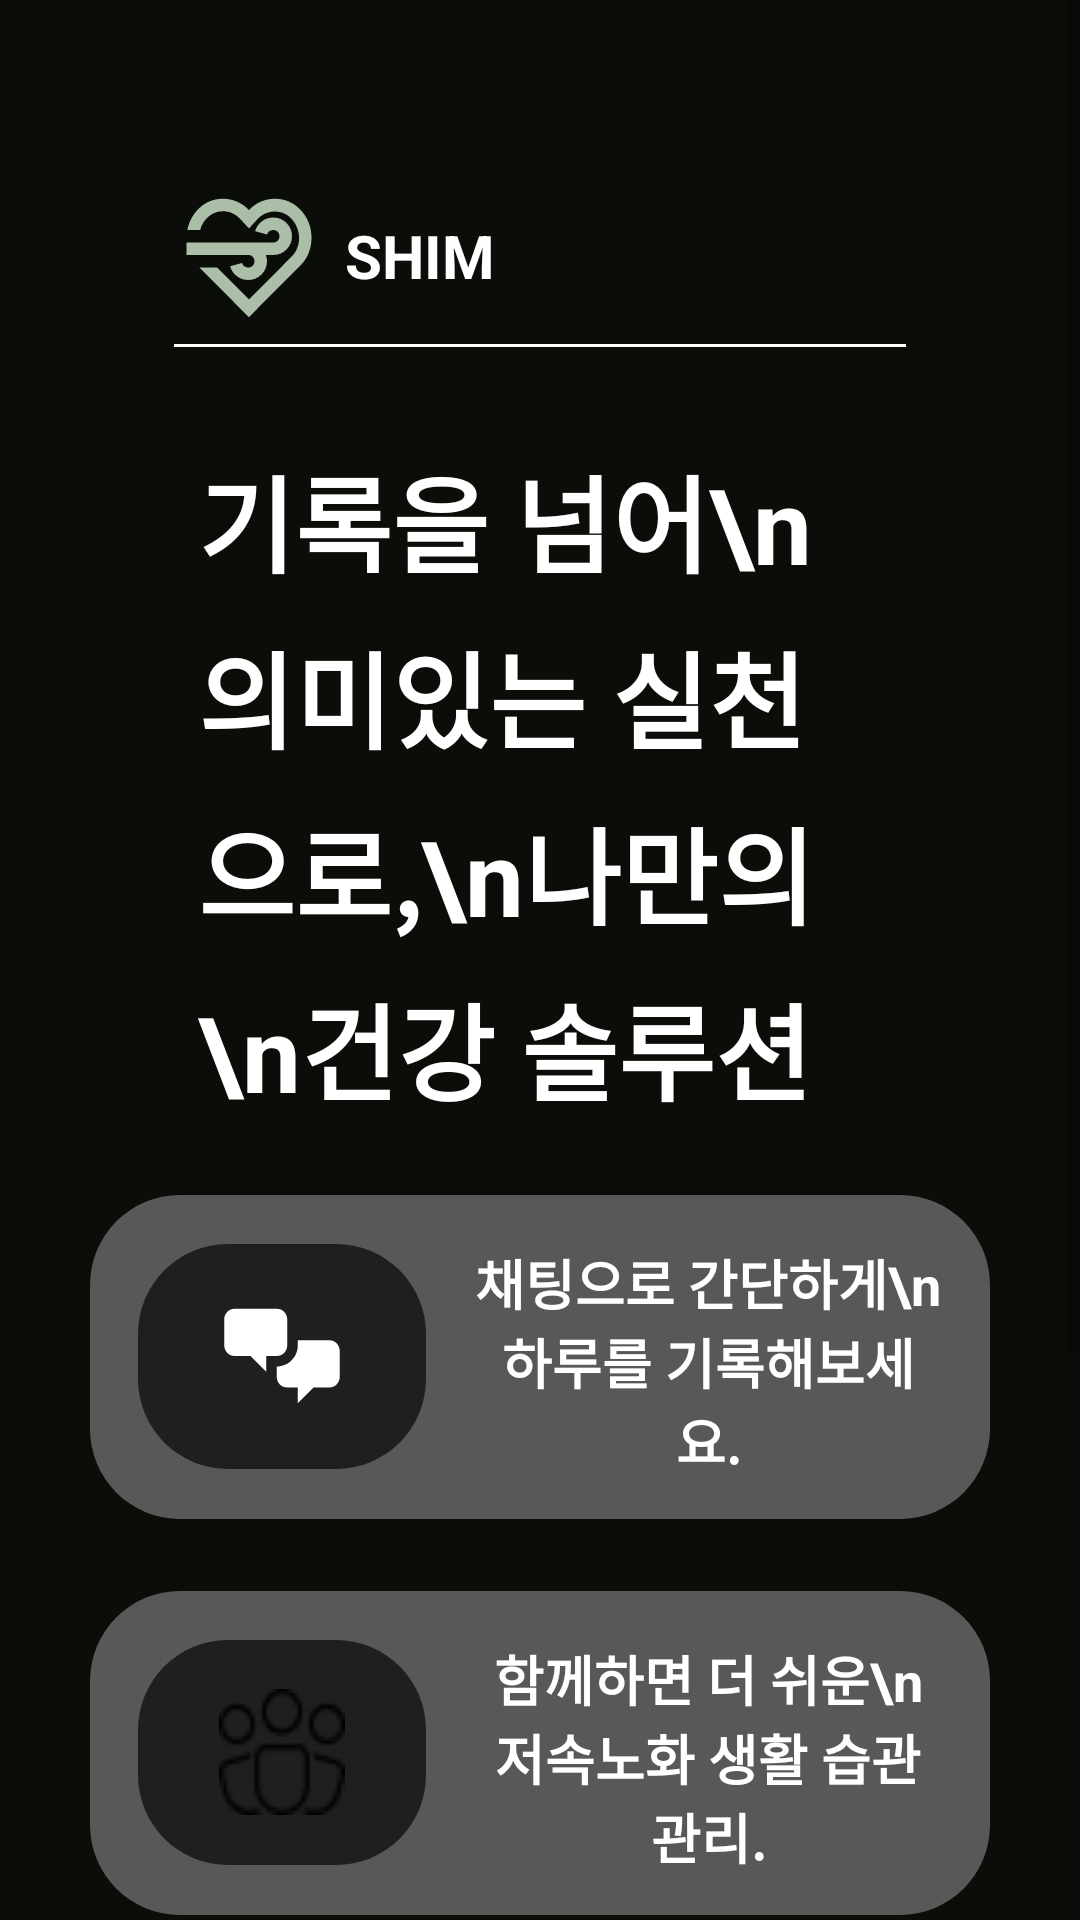

Icons on this 1080 x 1920 Android screen, each with its box as Rect(x1, y1, x2, y2):
chat: Rect(224, 1308, 340, 1403)
community: Rect(219, 1689, 345, 1815)
